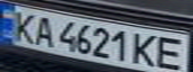1: (109, 28, 130, 63)
2: (90, 25, 112, 60)
4: (54, 19, 78, 52)
6: (72, 22, 96, 56)
A: (30, 15, 57, 47)
E: (151, 34, 190, 72)
K: (130, 30, 163, 69), (6, 9, 42, 44)
